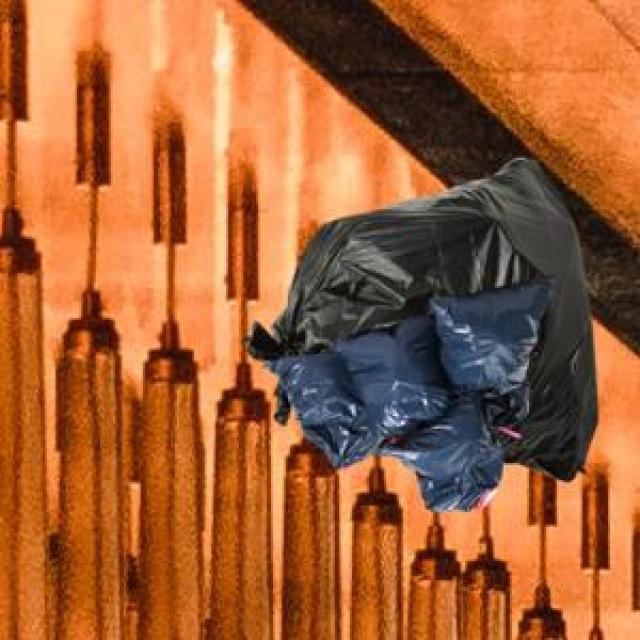Vinyl: (250, 158, 596, 511)
